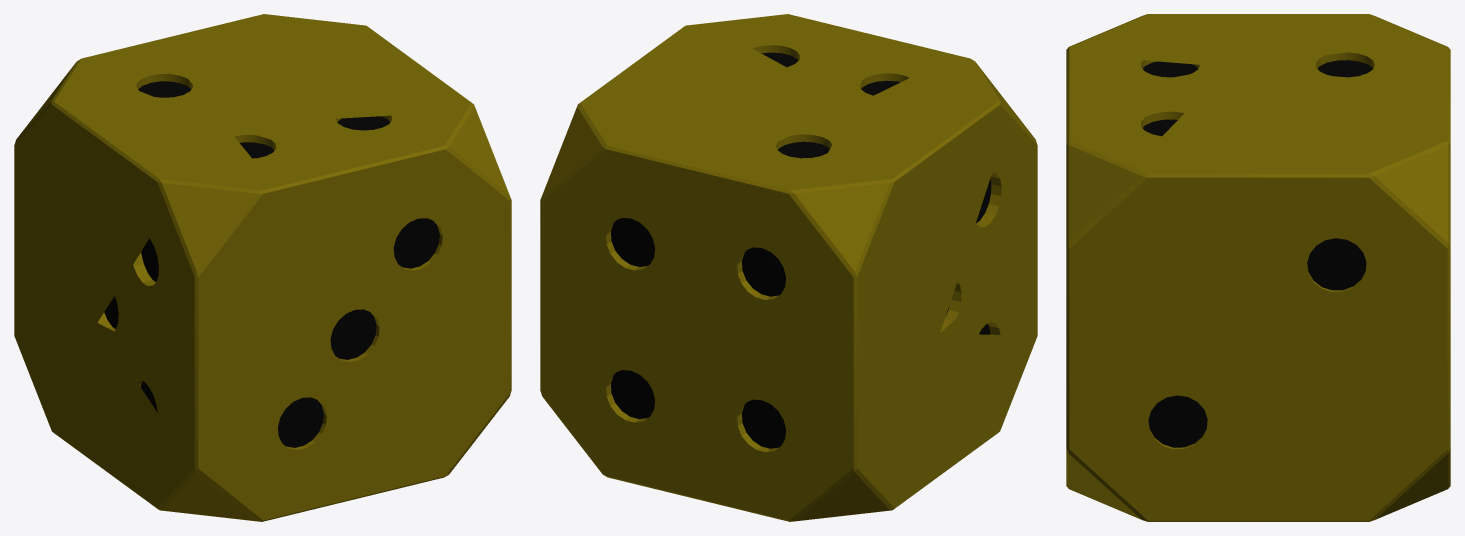
The model's file is 06.gold.fbx.
3 renders of one model, left to right at view 1: azimuth 30°, elevation 25°; view 2: azimuth 150°, elevation 25°; view 3: azimuth 270°, elevation 25°, orthographic. The views are drawn at different scales.
Parts seen in each view (by area): view 1: Cube.002, Cube.003; view 2: Cube.002, Cube.003; view 3: Cube.002, Cube.003.
Boxes of the visible parts, x1,y1,x2,y2 form: Cube.002: (14, 14, 511, 521); Cube.003: (104, 81, 439, 447); Cube.002: (540, 14, 1037, 521); Cube.003: (611, 52, 991, 448); Cube.002: (1066, 14, 1450, 521); Cube.003: (1142, 60, 1373, 447).
Size of the model in its own units: 200 by 200 by 200.
